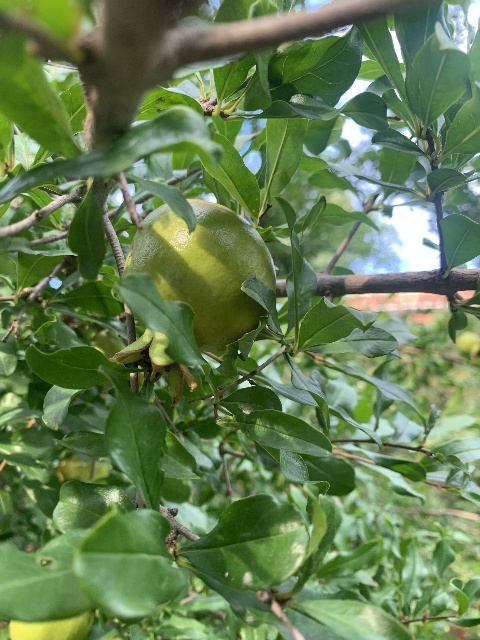mid-growth: (111, 199, 276, 408), (453, 329, 480, 363)
